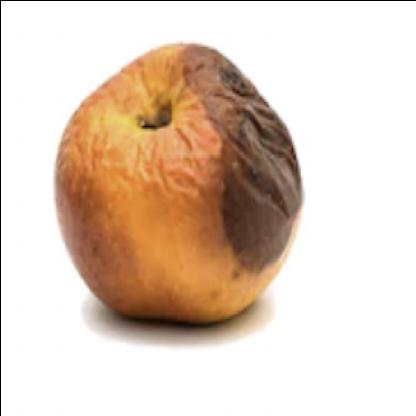Rotten Apple: (55, 46, 304, 324)
